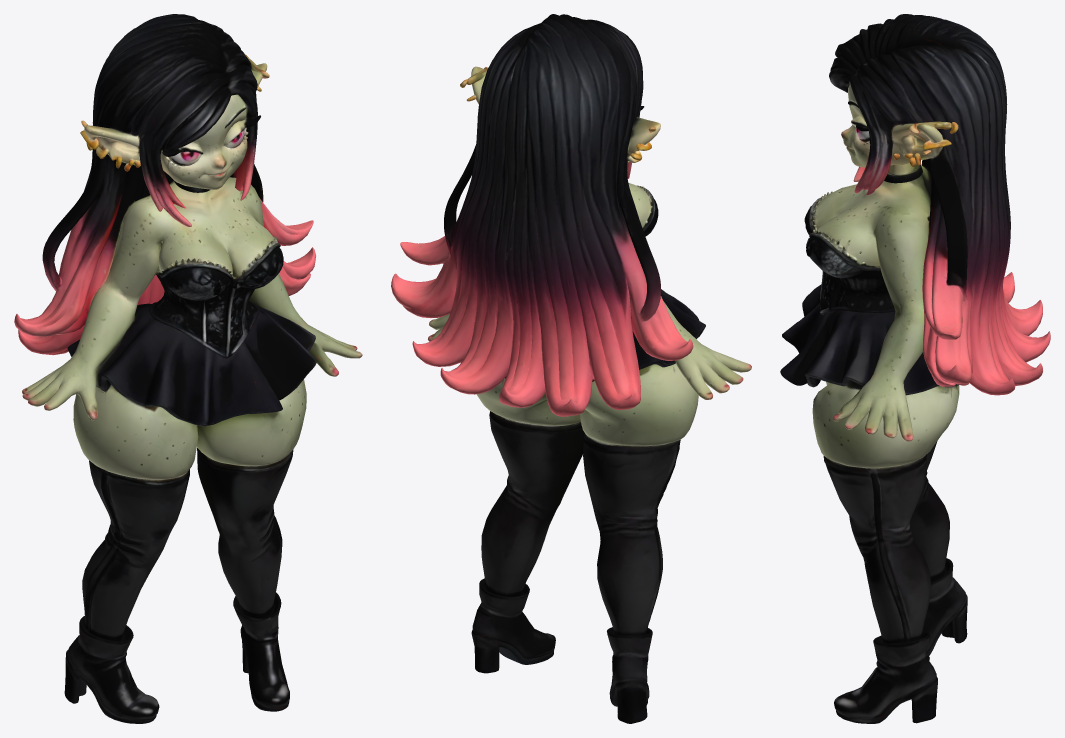
File: oficina-3d-nyx.glb
The picture shows the model from 3 angles, left to right: view 1: azimuth 30°, elevation 25°; view 2: azimuth 150°, elevation 25°; view 3: azimuth 270°, elevation 25°; orthographic projection.
Parts seen in each view (by area): view 1: model; view 2: model; view 3: model.
Part boxes in pixels (x1,y1,x2,y2): model: [14, 14, 362, 723]; model: [391, 14, 751, 723]; model: [780, 14, 1050, 723].
Size of the model in its own units: 0.9397 by 1.9 by 0.6966.
1 material, 1 textured.
